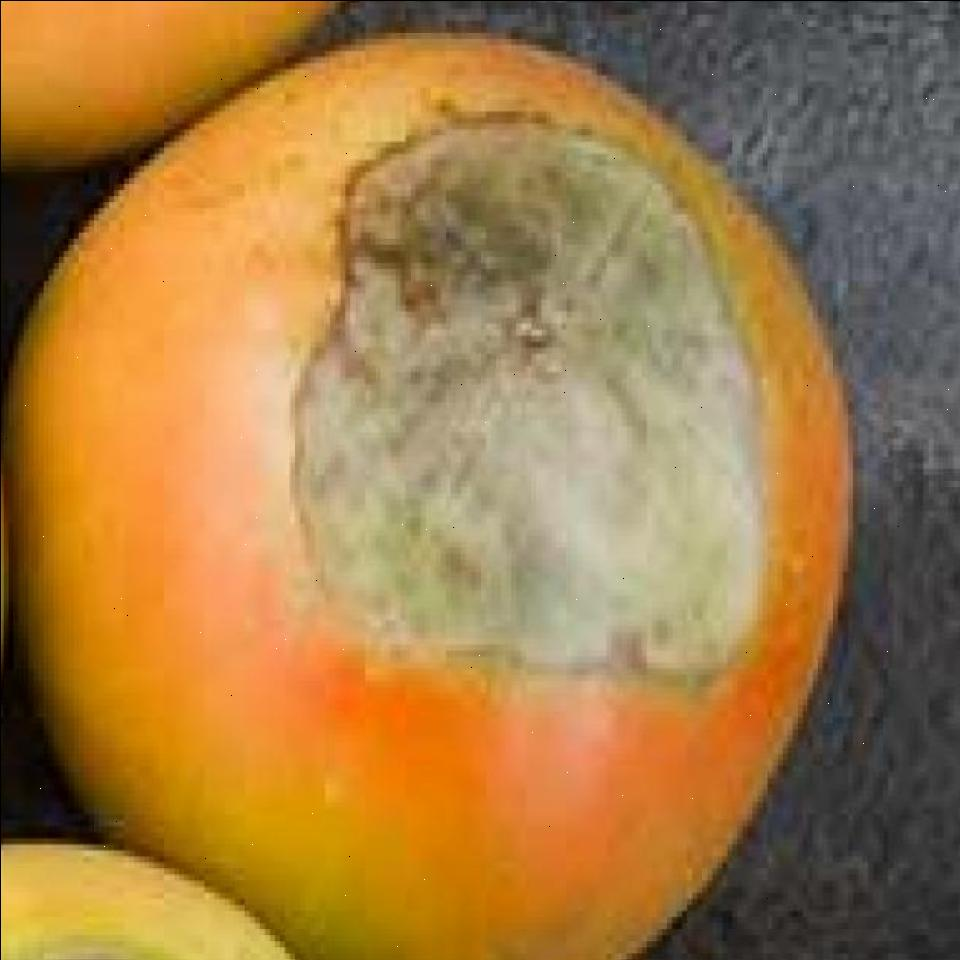Sunscald: (289, 104, 772, 693)
